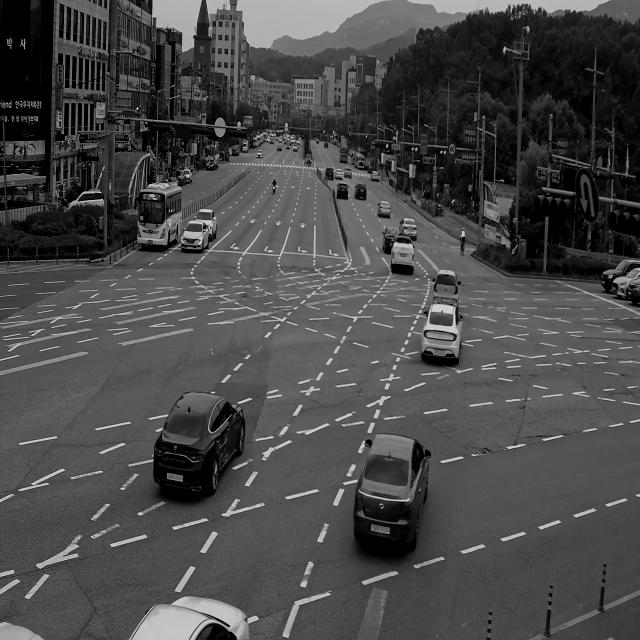Bus: (128, 173, 186, 257)
Car: (134, 348, 256, 524), (342, 422, 446, 554), (409, 296, 464, 376), (430, 265, 463, 318), (384, 231, 418, 273), (600, 249, 638, 284), (176, 222, 211, 255), (196, 205, 222, 237), (613, 264, 639, 296), (400, 212, 419, 242), (336, 176, 352, 204), (356, 178, 368, 204), (376, 198, 392, 216)
Motorcycle: (271, 176, 280, 196)
